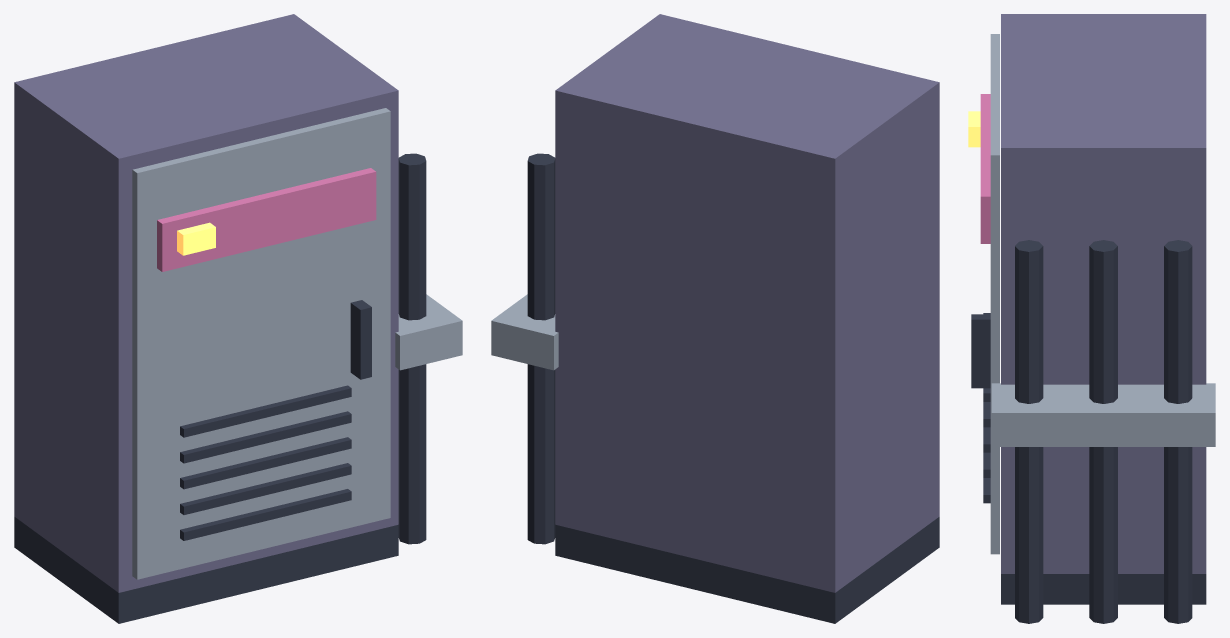
File: neon-dispatch-district-power-cabinet__181.glb
3 renders of one model, left to right at view 1: azimuth 30°, elevation 25°; view 2: azimuth 150°, elevation 25°; view 3: azimuth 270°, elevation 25°, orthographic.
Visible parts, largest first — view 1: shell, metal, dark, accent, warm; view 2: shell, dark, metal; view 3: shell, dark, metal, accent, warm.
Boxes of the visible parts, x1,y1,x2,y2 form: shell: [14, 14, 398, 592]; metal: [132, 108, 462, 579]; dark: [14, 153, 426, 623]; accent: [157, 168, 376, 271]; warm: [177, 222, 215, 255]; shell: [555, 14, 939, 592]; dark: [527, 153, 939, 623]; metal: [491, 294, 558, 370]; shell: [1001, 14, 1206, 573]; dark: [971, 240, 1206, 623]; metal: [990, 34, 1215, 554]; accent: [980, 94, 990, 243]; warm: [968, 111, 980, 147].
Bounding box in the file's own units: 1.03 × 1.35 × 0.6625.
